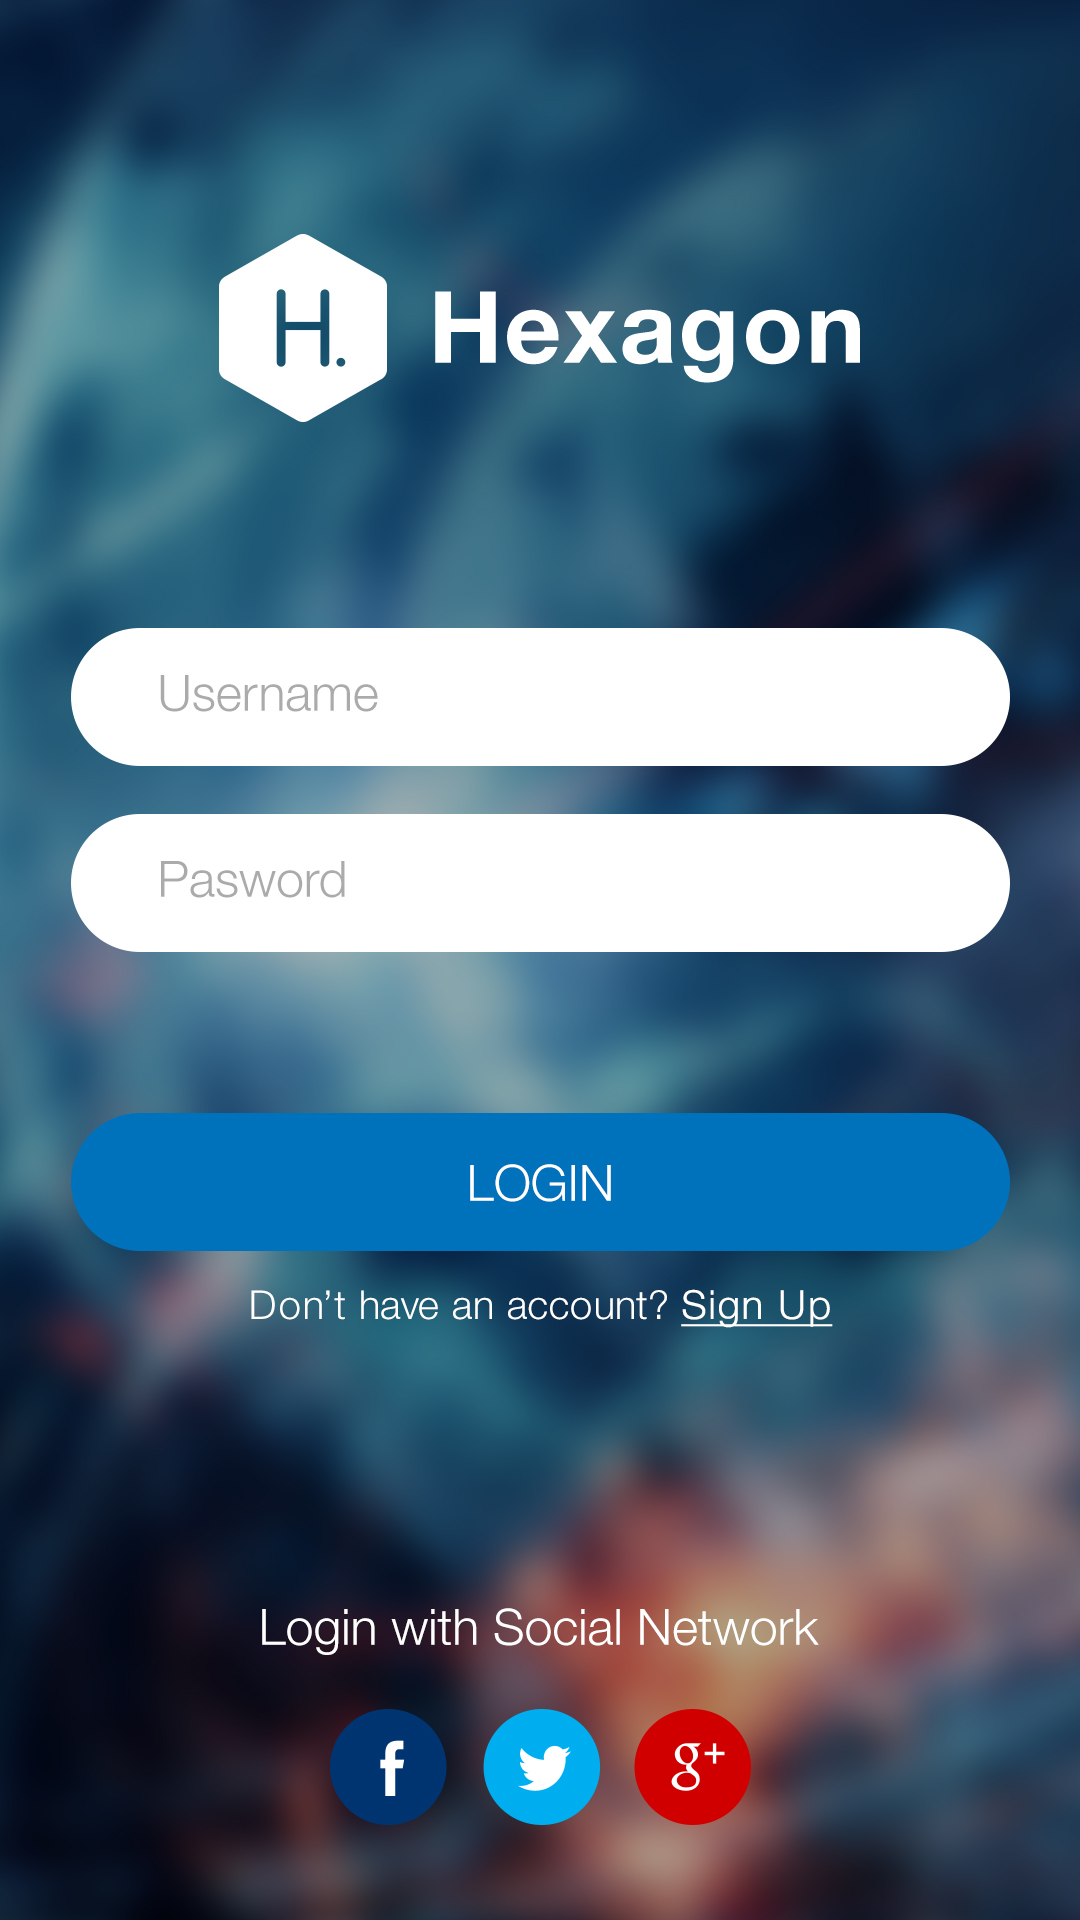BackgroundImage: (1, 1, 1080, 1920)
EditText: (71, 628, 1011, 767), (71, 814, 1011, 953)
Icon: (330, 1708, 448, 1826), (483, 1708, 601, 1826), (634, 1708, 752, 1826)
Image: (219, 233, 389, 425)
Text: (435, 291, 861, 385), (262, 1607, 820, 1656), (251, 1288, 833, 1329), (160, 675, 378, 713), (161, 861, 345, 899)
TextButton: (71, 1113, 1011, 1251)
